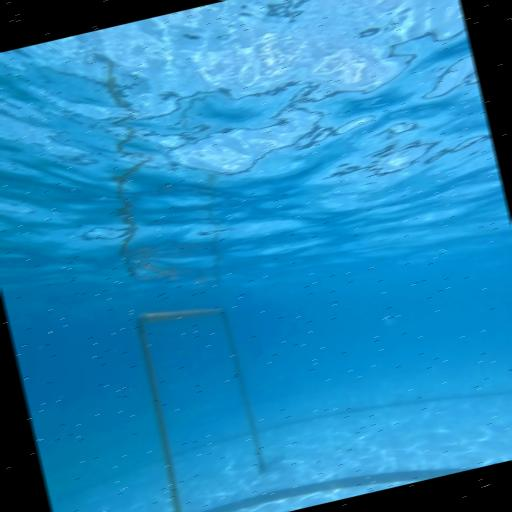gate: (126, 292, 276, 512)
